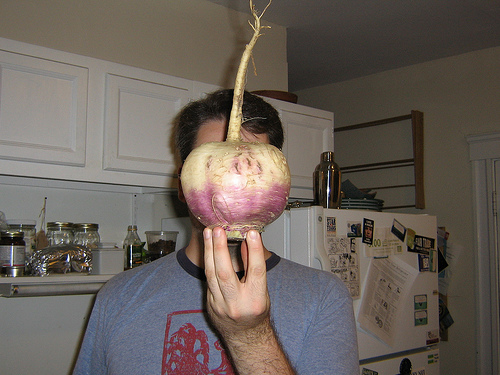turnip: (178, 0, 293, 242)
